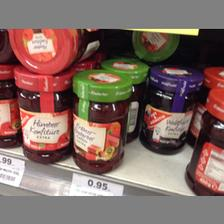Marmelade: (71, 69, 133, 174), (138, 61, 202, 154), (12, 66, 72, 164), (7, 28, 104, 74), (185, 86, 223, 194)
